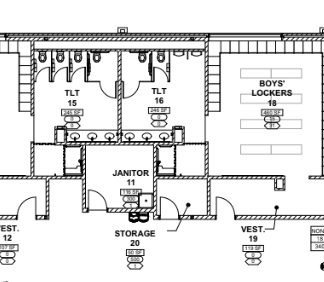door: (213, 195, 238, 218), (86, 188, 109, 212), (158, 195, 182, 218), (15, 195, 38, 218), (98, 79, 117, 101), (122, 81, 142, 100), (70, 66, 87, 85), (35, 65, 51, 84), (53, 66, 68, 86), (153, 66, 170, 82)
wall: (1, 35, 212, 42), (153, 174, 290, 181), (202, 38, 212, 122), (233, 213, 324, 222), (63, 140, 189, 146), (1, 172, 82, 180), (151, 141, 159, 222), (79, 139, 87, 219), (29, 40, 37, 118), (204, 177, 217, 215), (279, 36, 324, 43), (29, 139, 37, 178), (44, 178, 51, 216), (193, 213, 226, 221), (204, 139, 210, 177)
